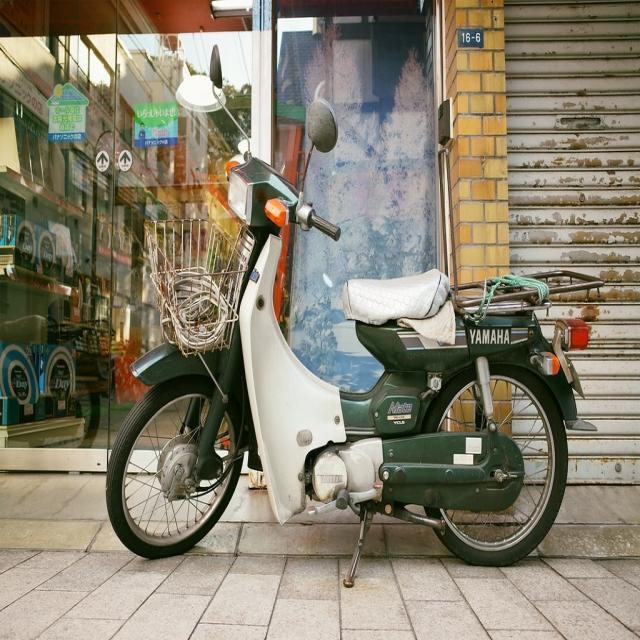scooter: (107, 155, 601, 586)
